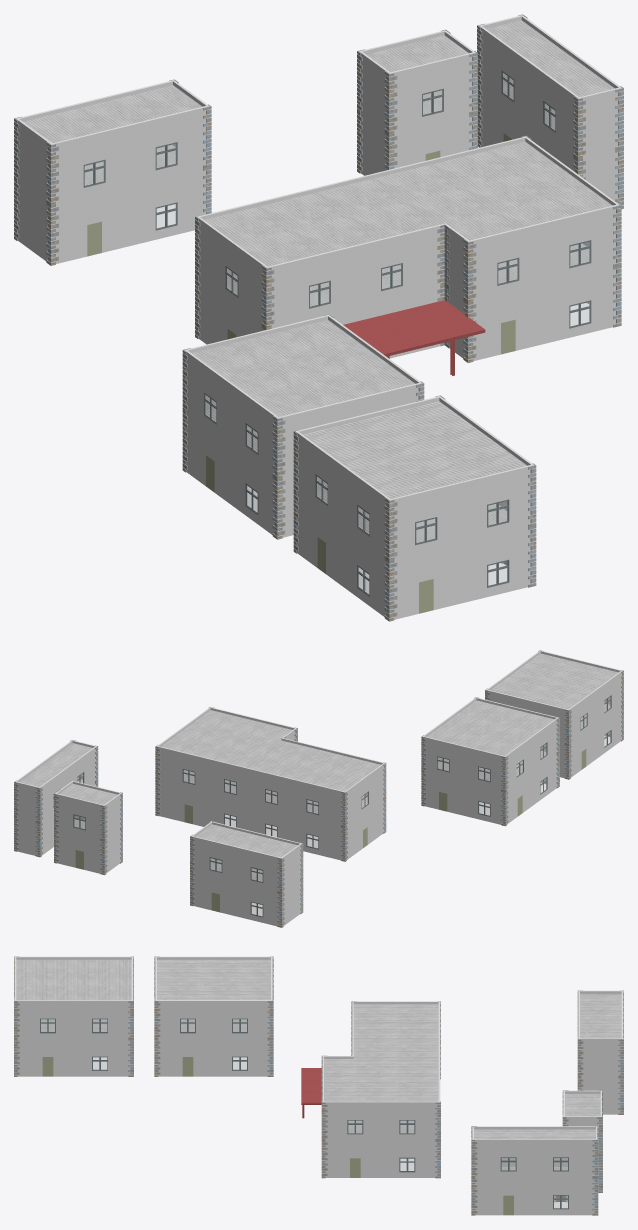
File: Plan(REF)_levels(2)_window(W Double Sash 23_5)_wall(WAFRA WALL)_quoin(Y)_cornice(N).fbx
The picture shows the model from 3 angles, top to bottom: view 1: azimuth 30°, elevation 25°; view 2: azimuth 150°, elevation 25°; view 3: azimuth 270°, elevation 25°; orthographic projection. The views are drawn at different scales.
Visible parts, largest first — view 1: WAFRA Stucco - White Rough 23, WAFRA Roof - Corrugated Sheet Matte 23, WAFRA Stone - Slate Natural 23, Metal - Finish - Aluminum, Glass - Clear, WAFRA Roof - Standing Seam Red Coat 23, Color - White, Color - Beige; view 2: WAFRA Stucco - White Rough 23, WAFRA Roof - Corrugated Sheet Matte 23, WAFRA Stone - Slate Natural 23, Metal - Finish - Aluminum, Glass - Clear, Color - White, Color - Beige; view 3: WAFRA Stucco - White Rough 23, WAFRA Roof - Corrugated Sheet Matte 23, WAFRA Stone - Slate Natural 23, Metal - Finish - Aluminum, Glass - Clear, Color - White, Color - Beige, WAFRA Roof - Standing Seam Red Coat 23.
Part boxes in pixels (x1,y1,x2,y2): WAFRA Stucco - White Rough 23: (16, 15, 621, 619); WAFRA Roof - Corrugated Sheet Matte 23: (23, 20, 614, 542); WAFRA Stone - Slate Natural 23: (14, 14, 623, 621); Metal - Finish - Aluminum: (83, 70, 591, 596); Glass - Clear: (85, 73, 589, 593); WAFRA Roof - Standing Seam Red Coat 23: (343, 300, 485, 375); Color - White: (14, 29, 623, 618); Color - Beige: (87, 133, 589, 613); WAFRA Stucco - White Rough 23: (15, 650, 622, 926); WAFRA Roof - Corrugated Sheet Matte 23: (19, 653, 618, 881); WAFRA Stone - Slate Natural 23: (14, 650, 623, 927); Metal - Finish - Aluminum: (53, 695, 611, 917); Glass - Clear: (53, 697, 610, 915); Color - White: (14, 675, 623, 925); Color - Beige: (75, 735, 605, 912); WAFRA Stucco - White Rough 23: (14, 956, 623, 1215); WAFRA Roof - Corrugated Sheet Matte 23: (16, 959, 621, 1170); WAFRA Stone - Slate Natural 23: (14, 956, 623, 1215); Metal - Finish - Aluminum: (40, 1018, 568, 1209); Glass - Clear: (41, 1019, 567, 1207); Color - White: (14, 958, 623, 1213); Color - Beige: (42, 1057, 566, 1215); WAFRA Roof - Standing Seam Red Coat 23: (301, 1068, 321, 1118).
Bounding box in the file's own units: 4163 × 5848 × 800.
12 materials, 5 textured.
